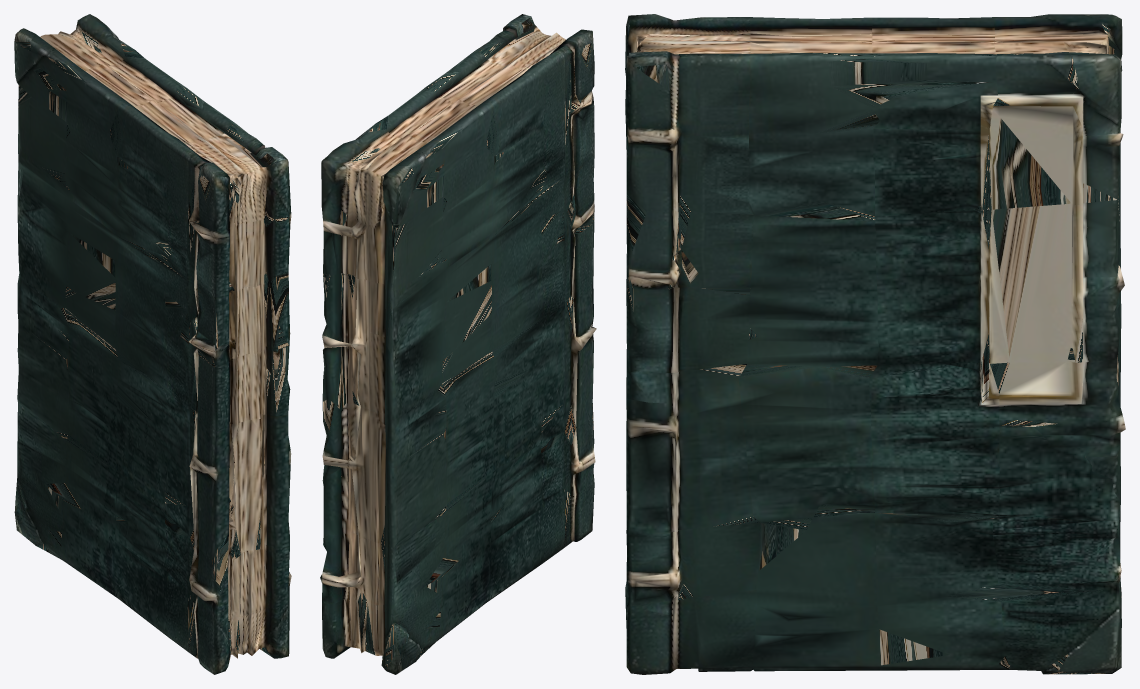
The model's file is book-mobile.glb.
3 views of the same model, side by side, from view 1: azimuth 30°, elevation 25°; view 2: azimuth 150°, elevation 25°; view 3: azimuth 270°, elevation 25° (orthographic). The views are drawn at different scales.
Parts seen in each view (by area): view 1: tripo_node_e8da7992-24ff-47b9-b0d1-42c723dec63f; view 2: tripo_node_e8da7992-24ff-47b9-b0d1-42c723dec63f; view 3: tripo_node_e8da7992-24ff-47b9-b0d1-42c723dec63f.
Part boxes in pixels (x1,y1,x2,y2): tripo_node_e8da7992-24ff-47b9-b0d1-42c723dec63f: [14, 14, 291, 674]; tripo_node_e8da7992-24ff-47b9-b0d1-42c723dec63f: [320, 14, 596, 674]; tripo_node_e8da7992-24ff-47b9-b0d1-42c723dec63f: [625, 14, 1125, 674].
Size of the model in its own units: 0.1855 by 0.9981 by 0.7305.
1 material, 1 textured.
